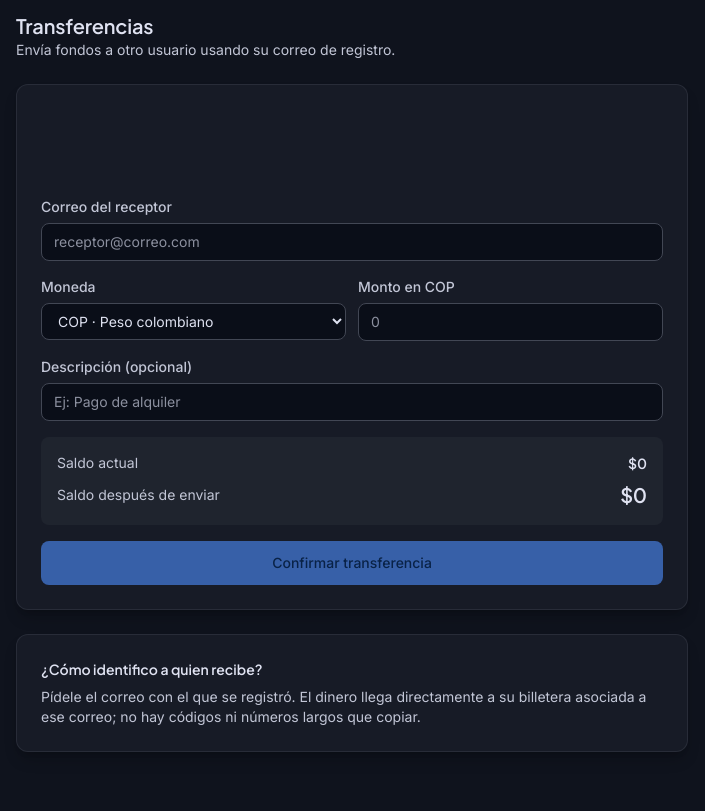
Test: TransferPage › marca error de formato en correos inválidos y bloquea el envío
This screenshot has width=705, height=811.
Type "correo-invalido" into the field labelled "Correo del receptor" at coordinates (352, 242), box [41,223,663,261]
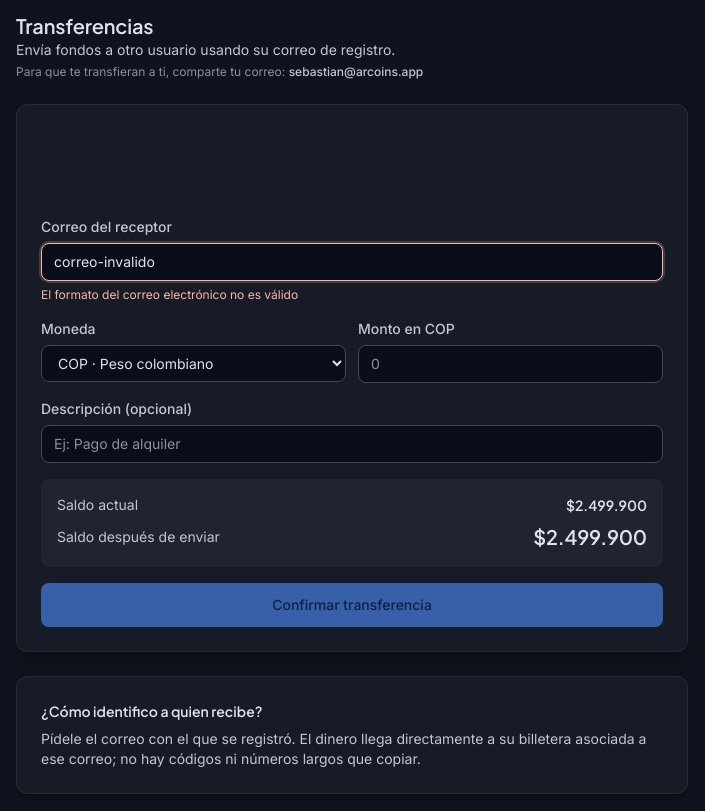
Expected: the button "Confirmar transferencia" is disabled, [41,583,663,627]
Expected: the text "El formato del correo electrónico no es válido" is shown, [41,287,298,302]
